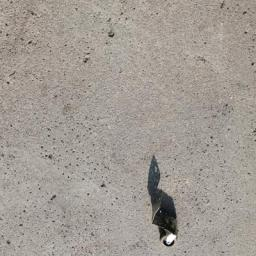FOD: (146, 160, 186, 251)
